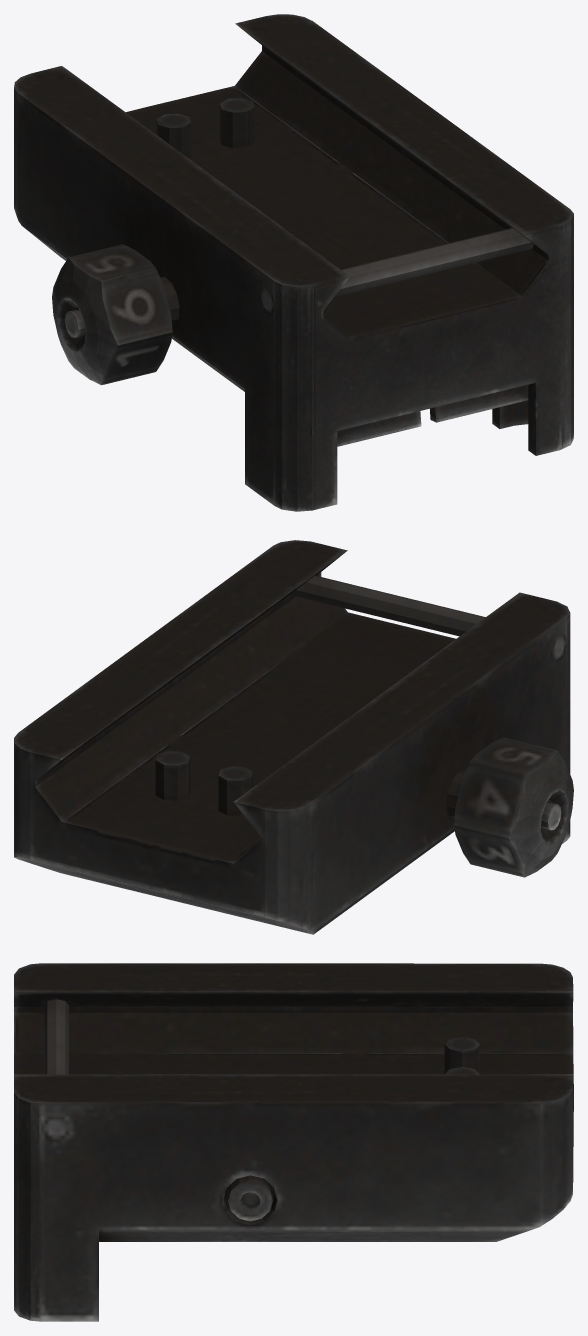
3 renders of one model, top to bottom at view 1: azimuth 30°, elevation 25°; view 2: azimuth 150°, elevation 25°; view 3: azimuth 270°, elevation 25°, orthographic. The views are drawn at different scales.
Parts seen in each view (by area): view 1: TW_56083e1b4bdc2dc8488b4572_PZ_Import; view 2: TW_56083e1b4bdc2dc8488b4572_PZ_Import; view 3: TW_56083e1b4bdc2dc8488b4572_PZ_Import.
Boxes of the visible parts, <box> form: TW_56083e1b4bdc2dc8488b4572_PZ_Import: <box>14,14,573,511</box>; TW_56083e1b4bdc2dc8488b4572_PZ_Import: <box>14,540,573,934</box>; TW_56083e1b4bdc2dc8488b4572_PZ_Import: <box>14,963,573,1321</box>.
Bounding box in the file's own units: 0.0213 × 0.027 × 0.0116.
Materials: 1 (1 with a texture image).
